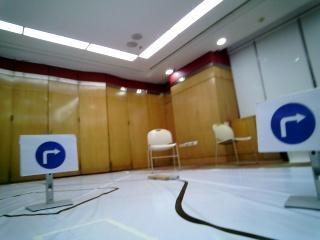right: (263, 99, 319, 149), (22, 136, 78, 172)
